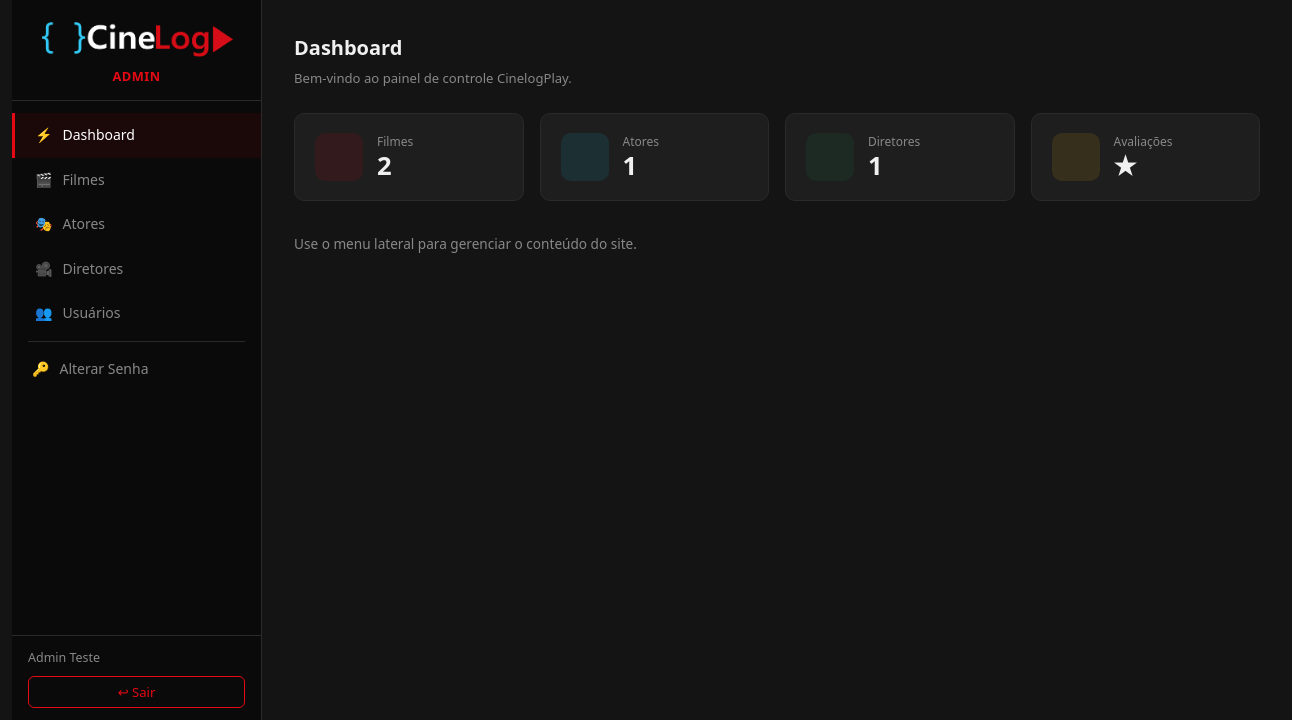
Admin React — Navegação › navega para /admin/diretores via sidebar
Click the link "🎥 Diretores" at (79, 269), box [35,259,123,278]
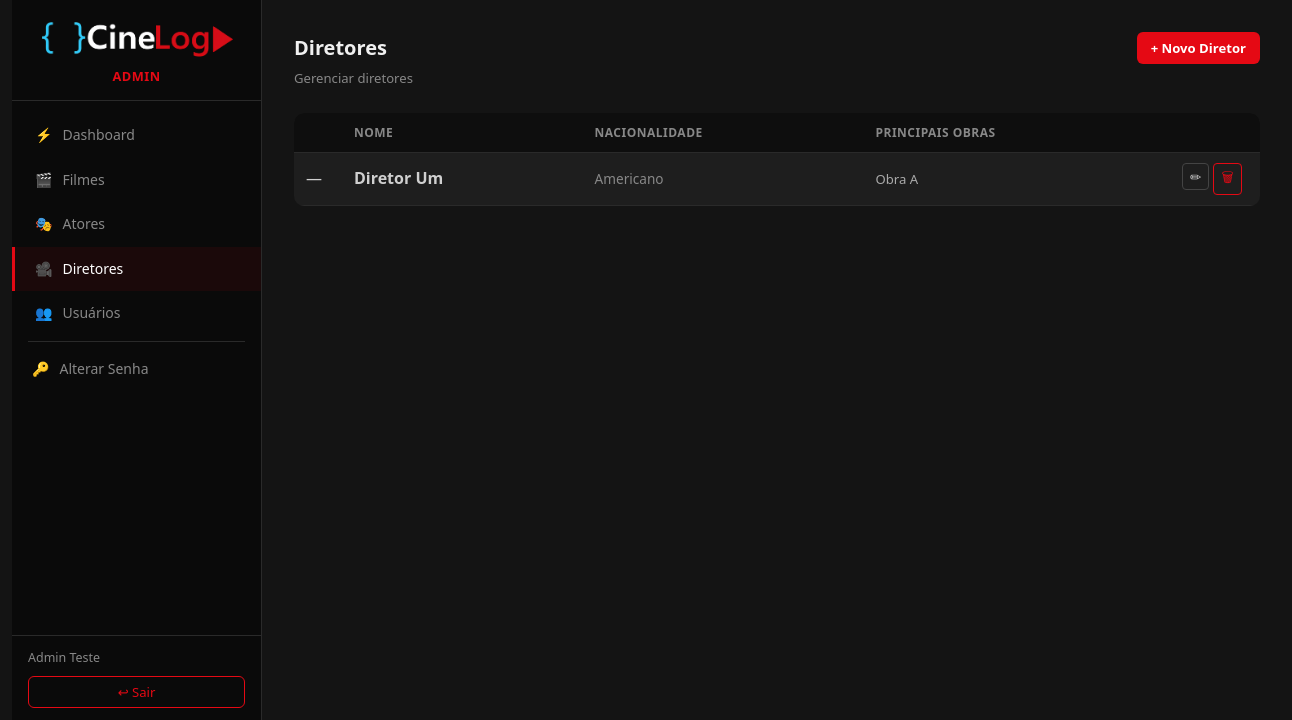
Expected: the heading "Diretores" is shown, [294,34,387,61]
